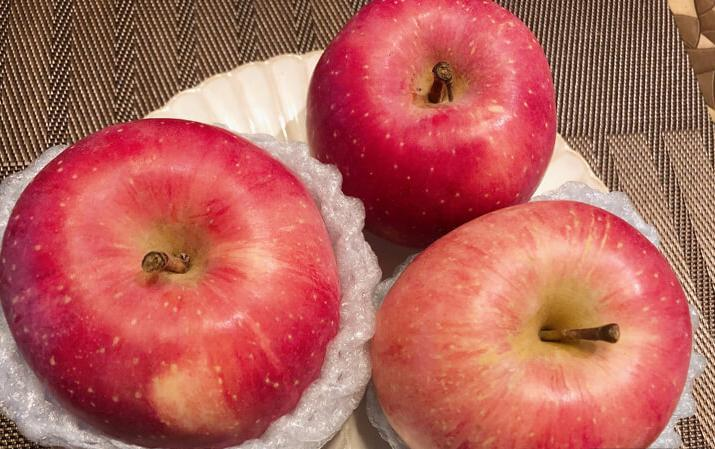apple: (1, 119, 344, 449), (367, 198, 694, 449), (304, 1, 557, 247)
